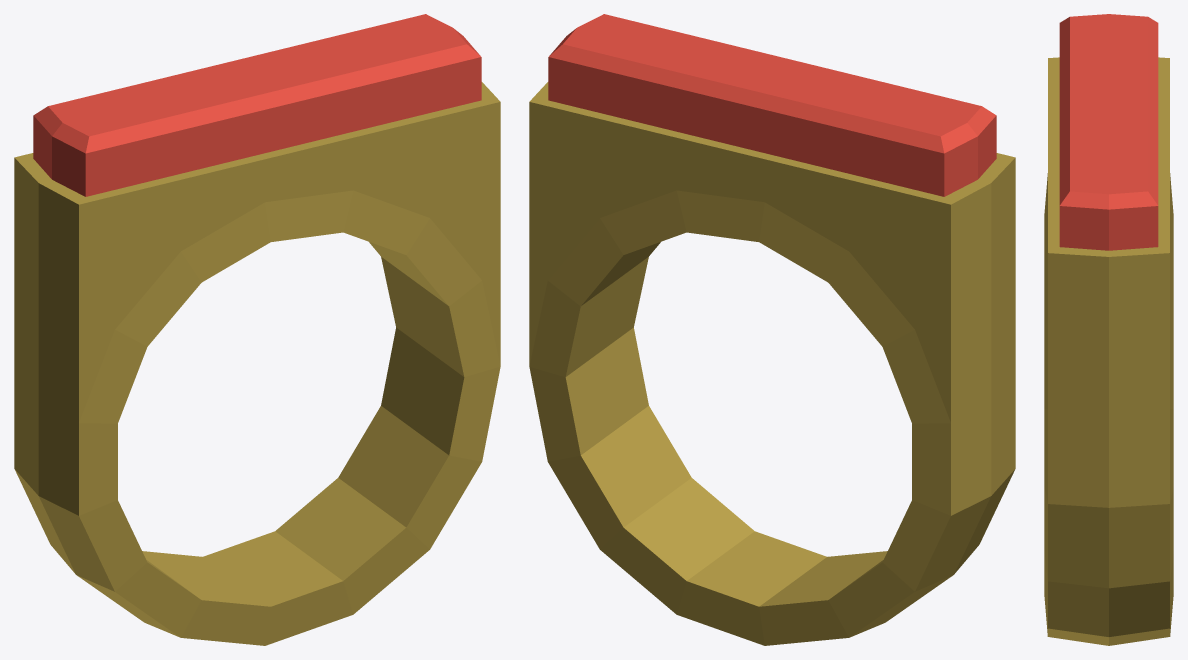
The model's file is Ring3.glb.
The picture shows the model from 3 angles, left to right: view 1: azimuth 30°, elevation 25°; view 2: azimuth 150°, elevation 25°; view 3: azimuth 270°, elevation 25°; orthographic projection. The views are drawn at different scales.
Visible parts, largest first — view 1: Ring3; view 2: Ring3; view 3: Ring3.
Boxes of the visible parts, x1,y1,x2,y2 form: Ring3: (14, 14, 500, 645); Ring3: (529, 14, 1015, 645); Ring3: (1044, 14, 1173, 645).
Size of the model in its own units: 0.2677 by 0.321 by 0.0722.
